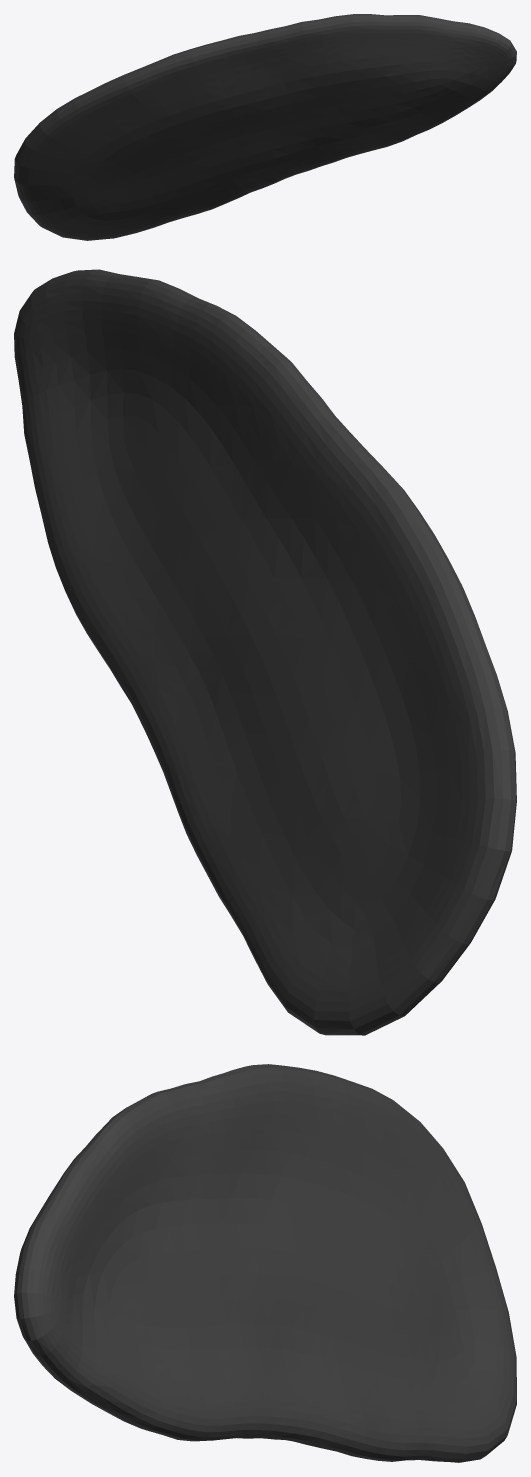
File: WINDOW_vestibular_L.glb
The picture shows the model from 3 angles, top to bottom: view 1: azimuth 30°, elevation 25°; view 2: azimuth 150°, elevation 25°; view 3: azimuth 270°, elevation 25°; orthographic projection. The views are drawn at different scales.
Parts seen in each view (by area): view 1: WINDOW_vestibular_L; view 2: WINDOW_vestibular_L; view 3: WINDOW_vestibular_L.
Boxes of the visible parts, x1,y1,x2,y2 form: WINDOW_vestibular_L: (14,14,516,240); WINDOW_vestibular_L: (14,269,516,1035); WINDOW_vestibular_L: (14,1064,516,1462).
Bounding box in the file's own units: 0.6675 × 0.443 × 0.4362.
Materials: 1 (1 with a texture image).
